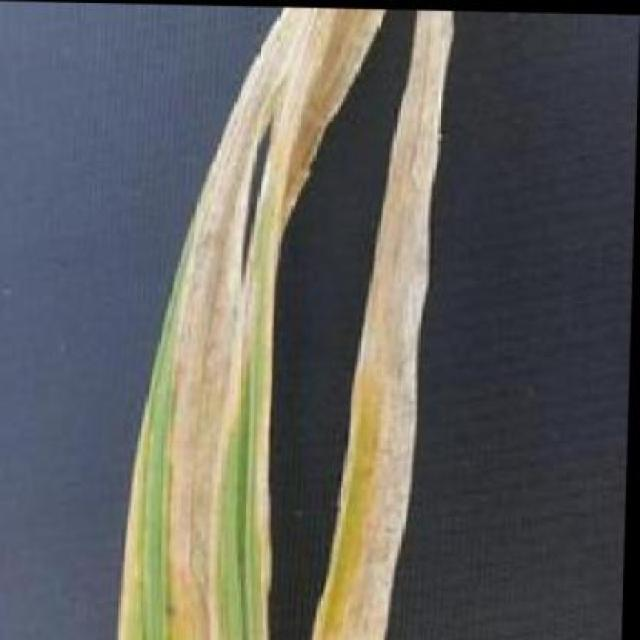Brown_Spot: (107, 1, 484, 640)
